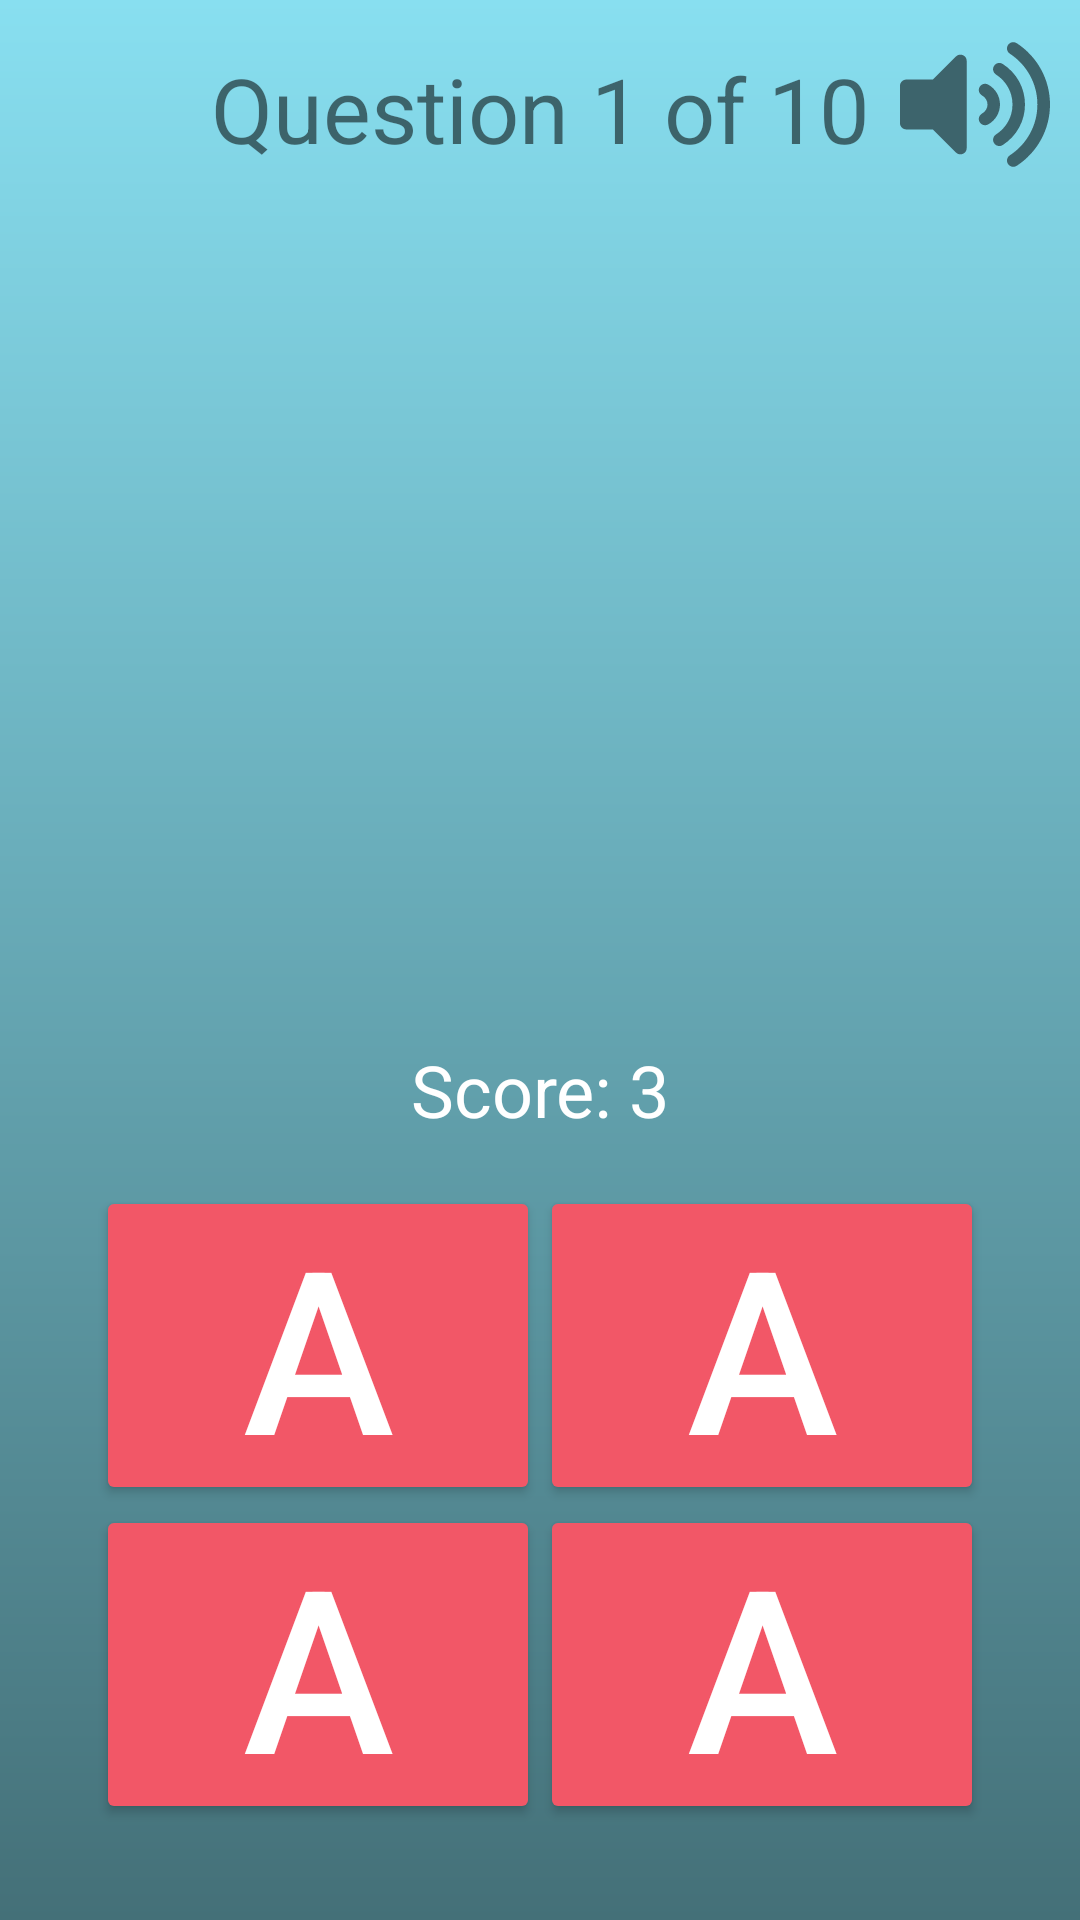

Named icons in this screenshot (1080*1920) and their bounding boxes, region(x1, y1, x2, y2):
volume on: region(900, 42, 1050, 167)
